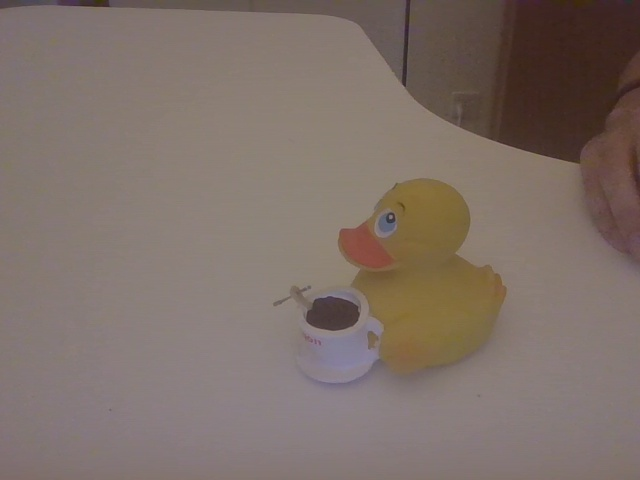duck: (270, 145, 518, 401)
